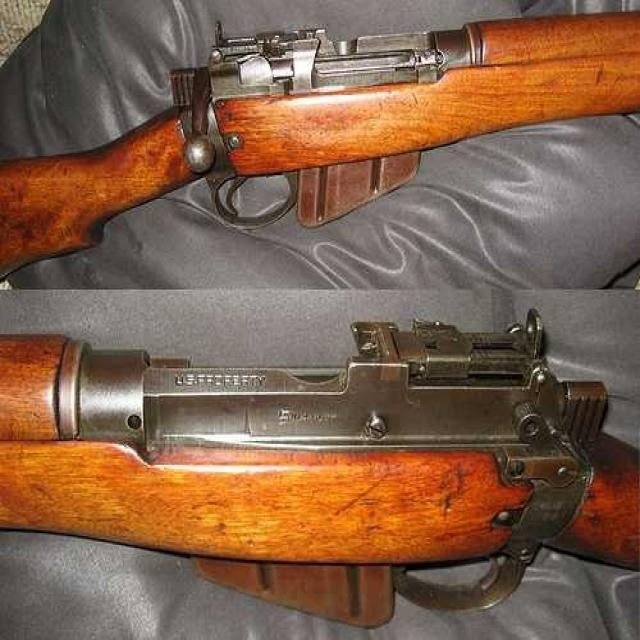weapon: (0, 307, 640, 640), (0, 0, 640, 281)
